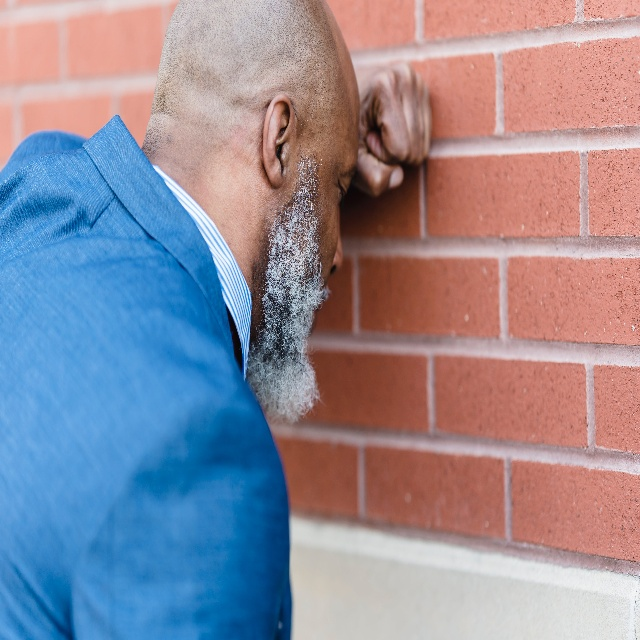Sin_guantes: (361, 69, 437, 199)
